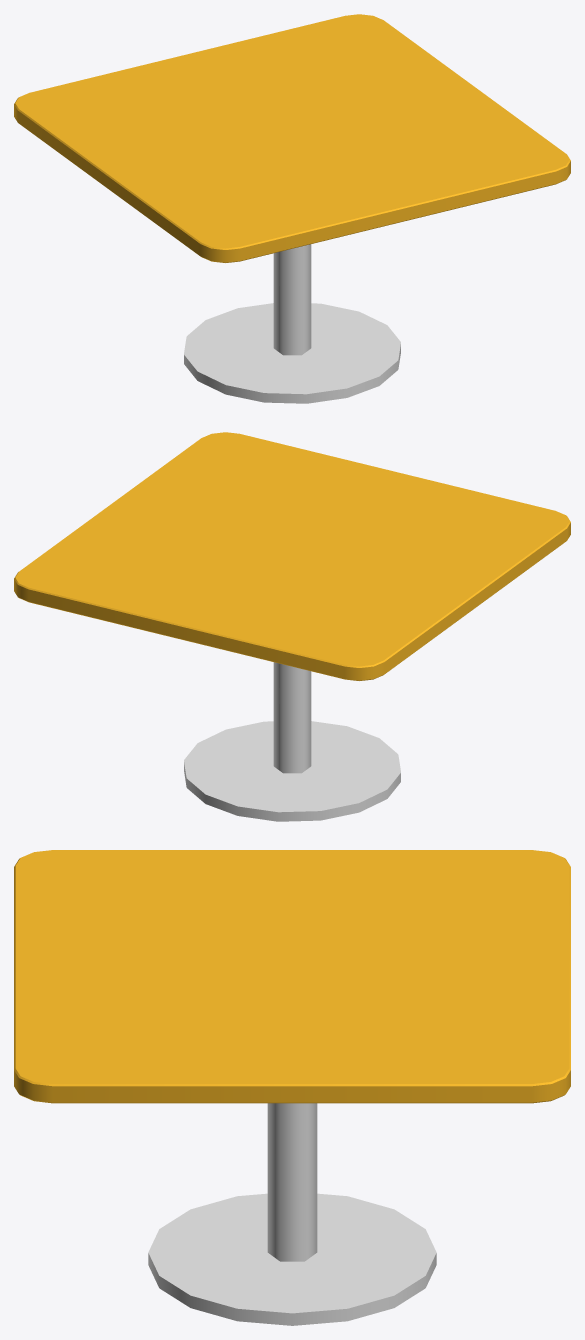
File: table1.fbx
The picture shows the model from 3 angles, top to bottom: view 1: azimuth 30°, elevation 25°; view 2: azimuth 150°, elevation 25°; view 3: azimuth 270°, elevation 25°; orthographic projection. The views are drawn at different scales.
Parts seen in each view (by area): view 1: Cylinder.001; view 2: Cylinder.001; view 3: Cylinder.001.
Boxes of the visible parts, <box> form: Cylinder.001: <box>14,14,570,403</box>; Cylinder.001: <box>14,432,570,821</box>; Cylinder.001: <box>14,850,570,1325</box>.
Size of the model in its own units: 2.82 by 1.66 by 2.82.
